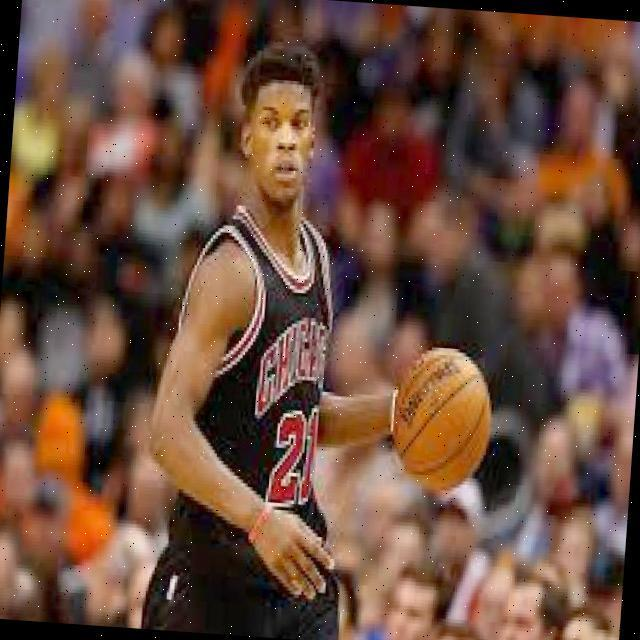ball: (390, 348, 494, 492)
